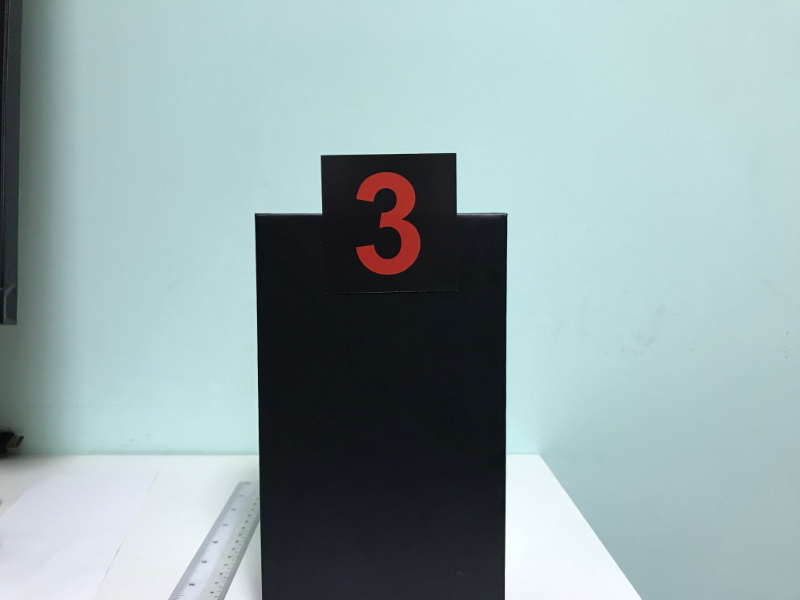Three-8: (326, 158, 454, 289)
